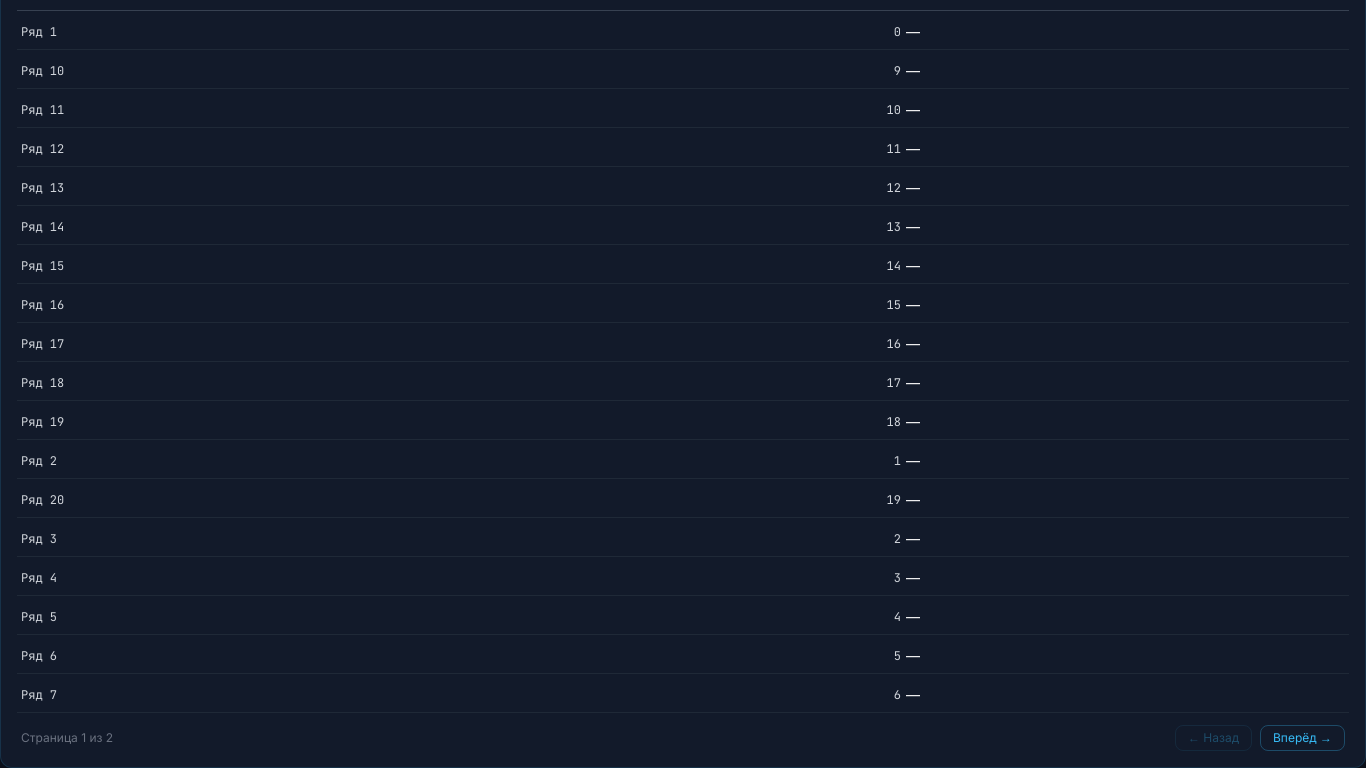
Scenario: DataTable › paginates rows client-side
The image size is (1366, 768).
(page scrolled)
Check: the text "Страница 1 из 2" is shown, box [21,730,113,746]
Click the button "Вперёд →": [1302, 738] box [1260,725,1345,751]
(page scrolled)
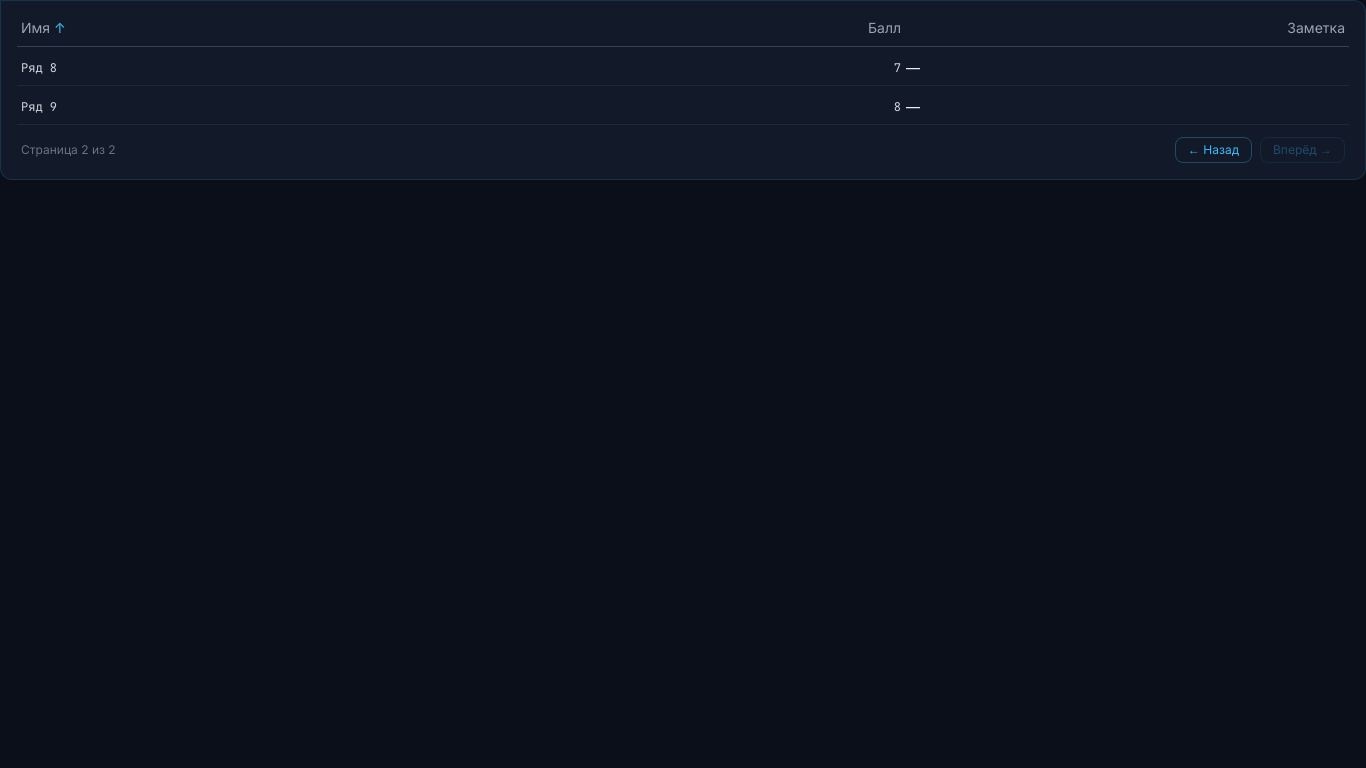
Check: the text "Страница 2 из 2" is shown, box [21,142,116,158]
Check: the text "Ряд 1" is gone
